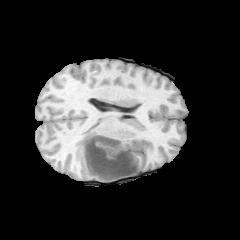glioma: (74, 126, 139, 182)
